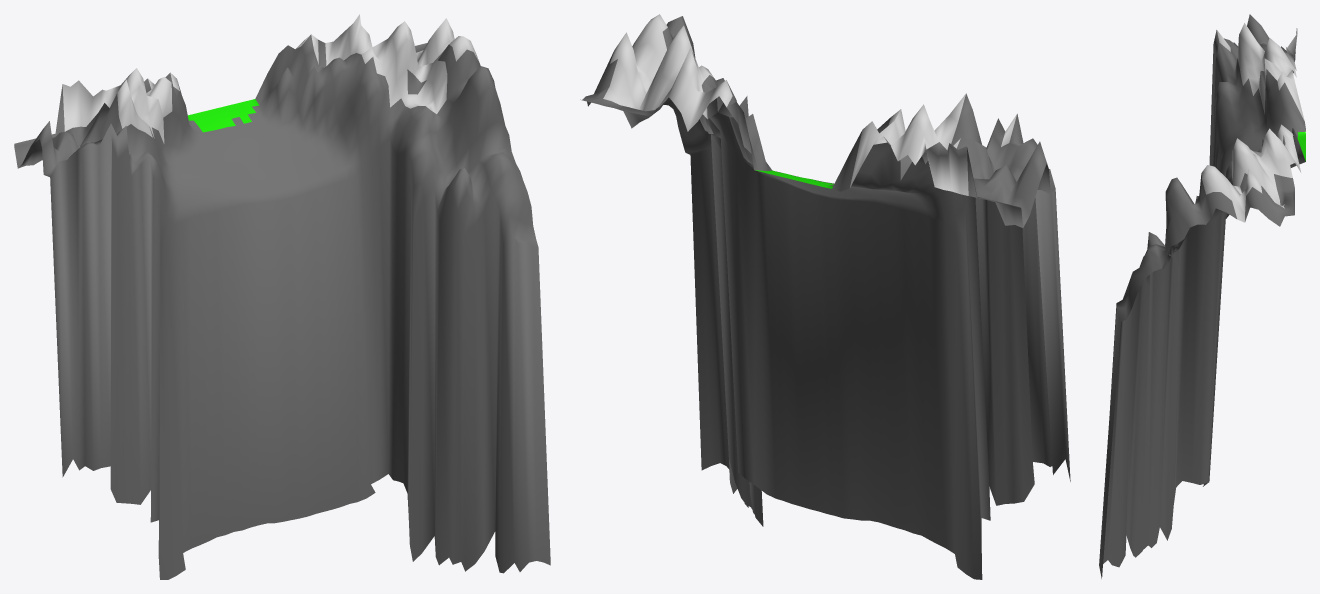
The model's file is HillDropJapan.fbx.
3 views of the same model, side by side, from view 1: azimuth 30°, elevation 25°; view 2: azimuth 150°, elevation 25°; view 3: azimuth 270°, elevation 25° (orthographic). The views are drawn at different scales.
Visible parts, largest first — view 1: HillPart1.001; view 2: HillPart1.001; view 3: HillPart1.001.
Boxes of the visible parts, x1,y1,x2,y2 form: HillPart1.001: [14, 14, 550, 579]; HillPart1.001: [580, 14, 1070, 579]; HillPart1.001: [1099, 14, 1305, 578].
Bounding box in the file's own units: 15082 × 17408 × 7693.
